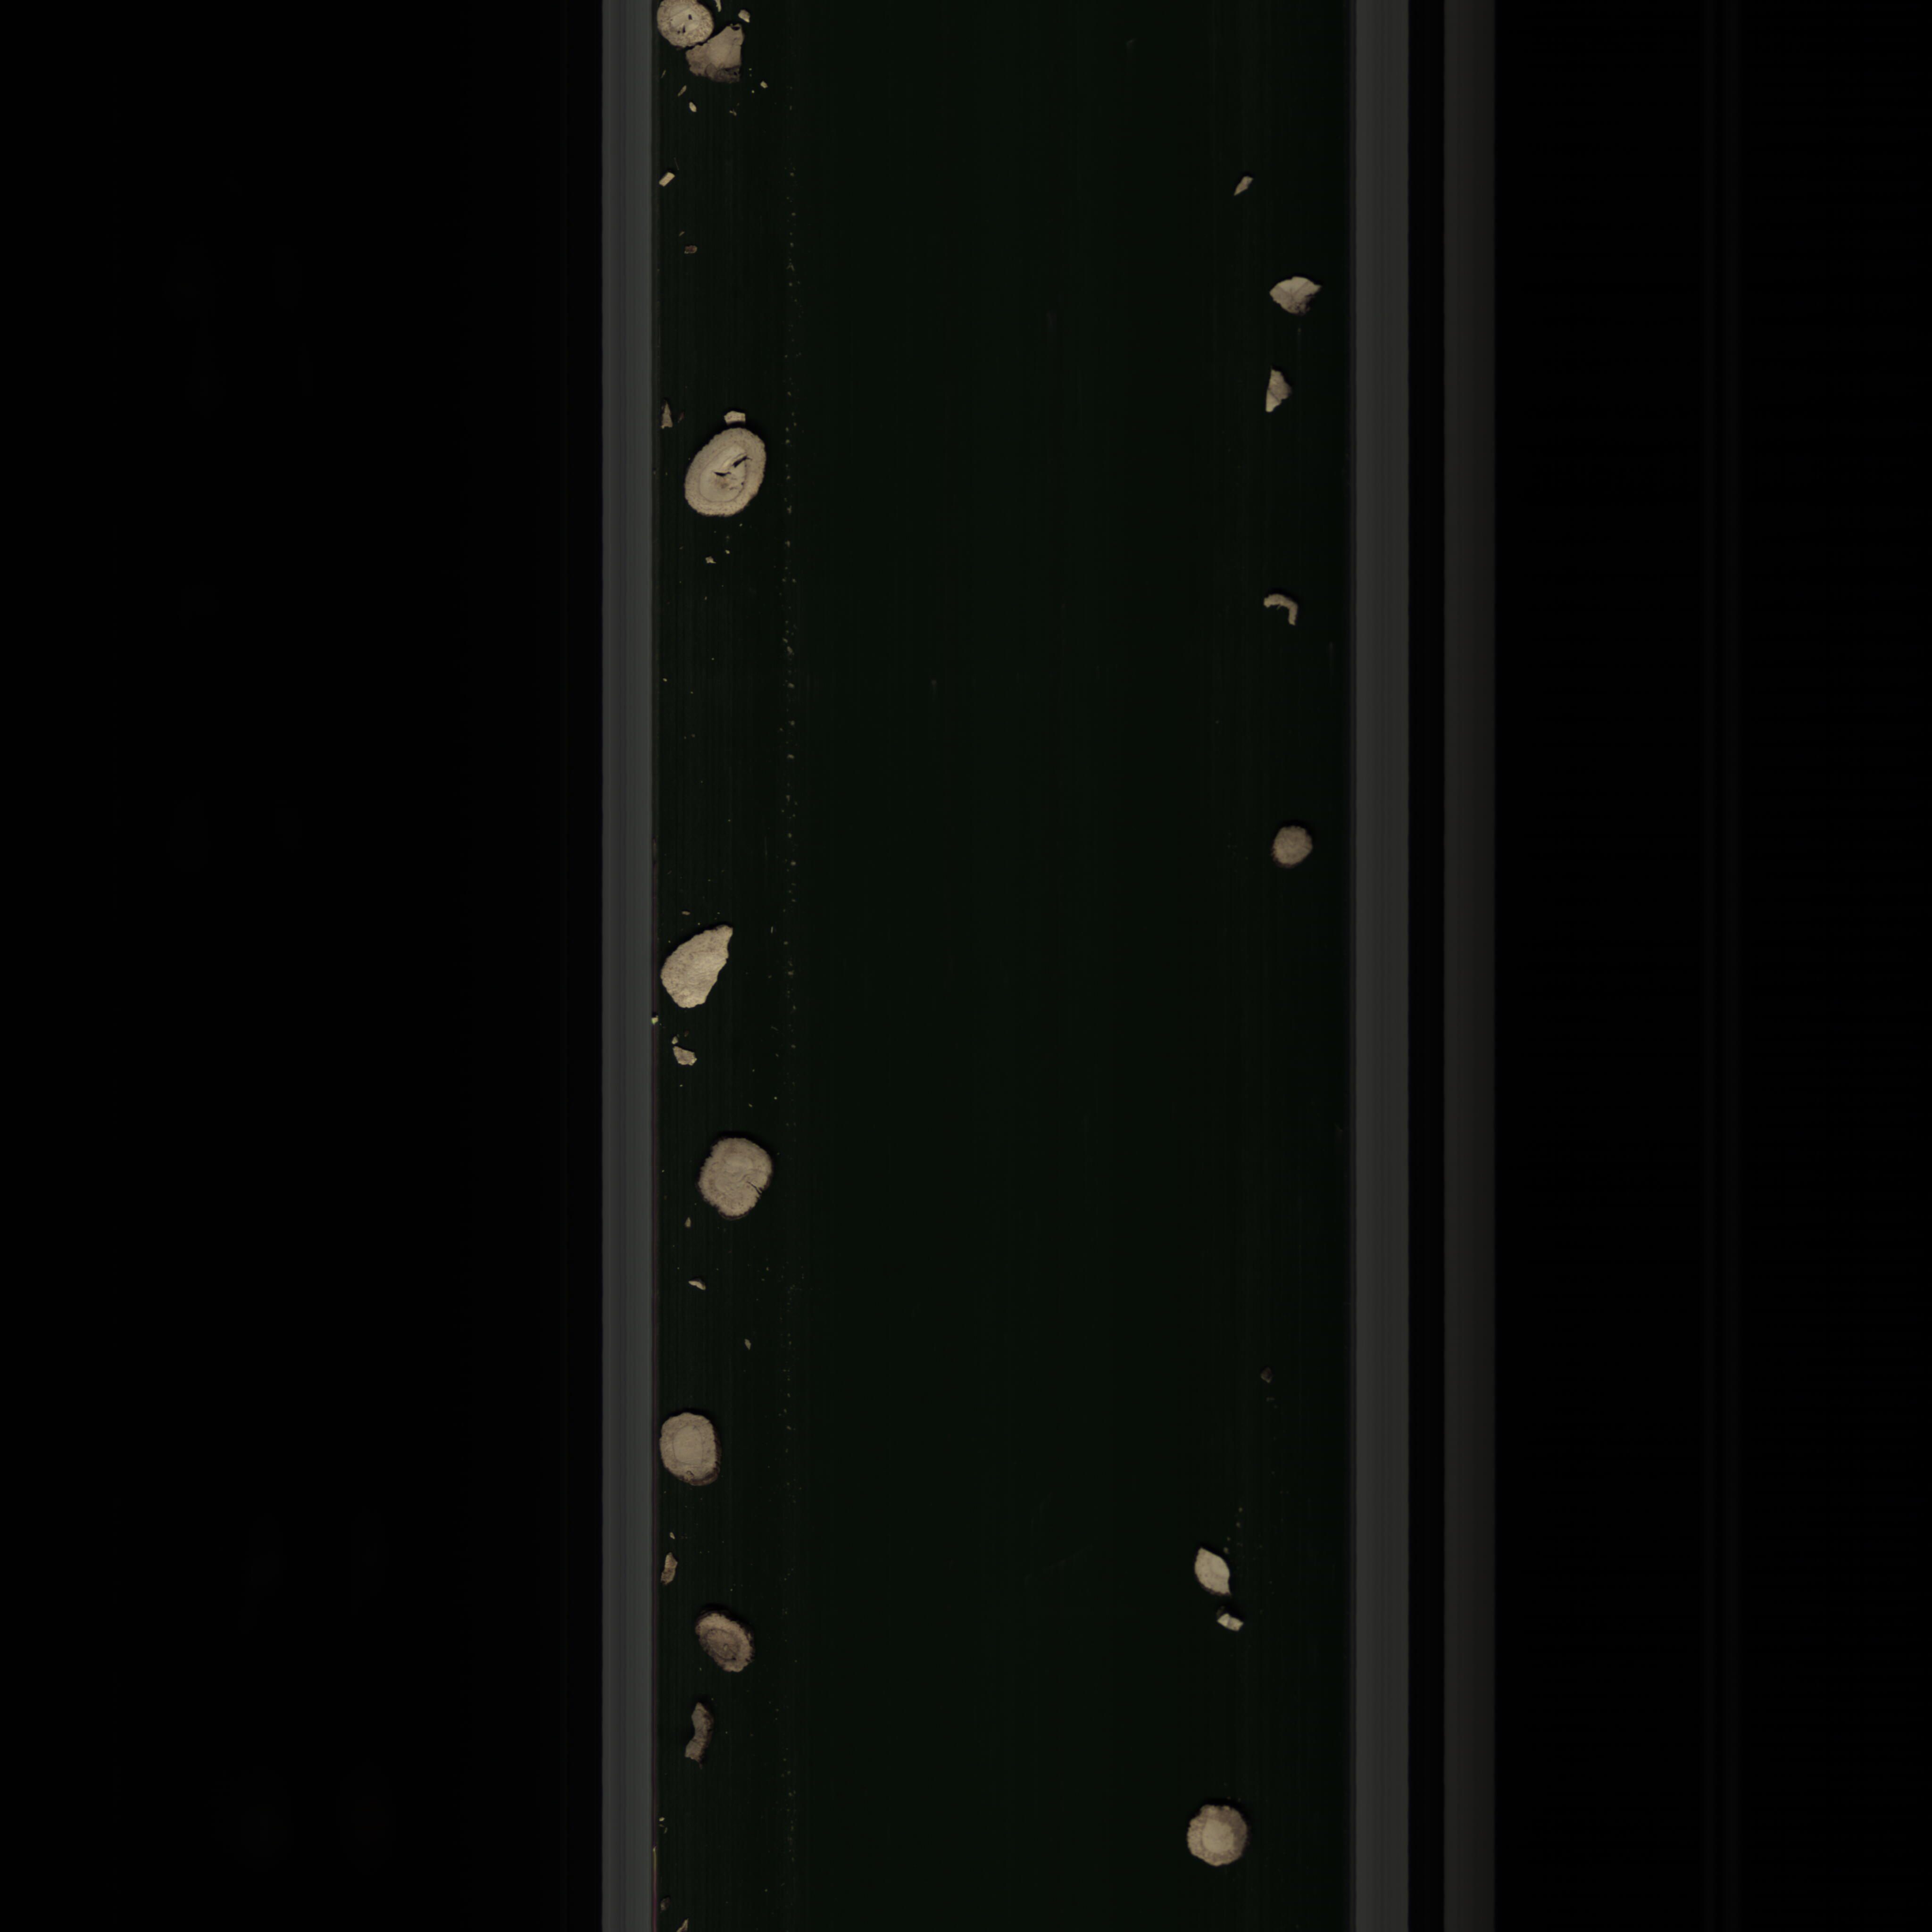bark: (672, 1695, 718, 1769)
debris: (663, 915, 748, 1016), (1189, 1532, 1251, 1610), (1267, 272, 1325, 320), (1256, 363, 1295, 419), (1261, 589, 1307, 626), (669, 1039, 701, 1072), (1214, 1612, 1242, 1640)
hole: (676, 430, 770, 522)
moldy: (685, 1601, 768, 1672)
